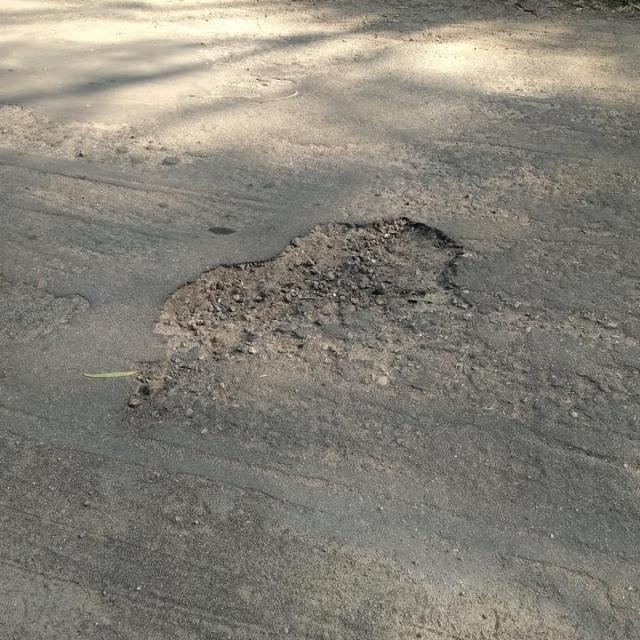Pothole: (150, 213, 473, 359)
